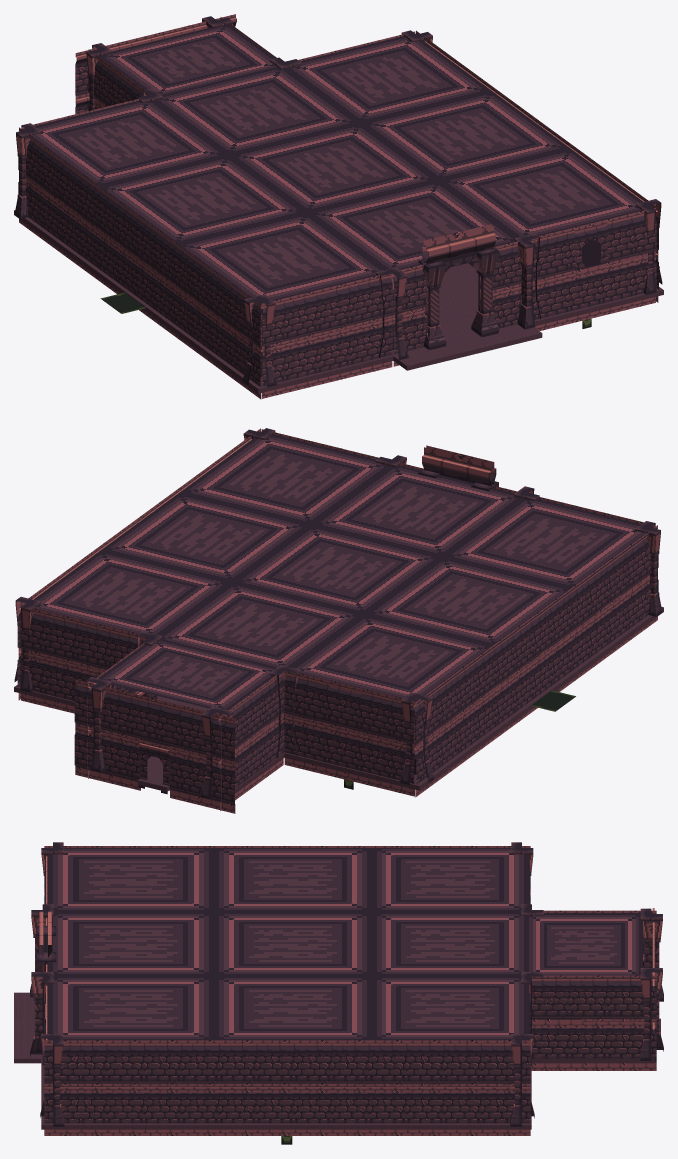
The model's file is EditMainRoom.glb.
The picture shows the model from 3 angles, top to bottom: view 1: azimuth 30°, elevation 25°; view 2: azimuth 150°, elevation 25°; view 3: azimuth 270°, elevation 25°; orthographic projection.
Parts seen in each view (by area): view 1: MainRoom; view 2: MainRoom; view 3: MainRoom.
Boxes of the visible parts, x1=… form: MainRoom: x1=14, y1=14, x2=663, y2=399; MainRoom: x1=14, y1=428, x2=663, y2=813; MainRoom: x1=14, y1=842, x2=663, y2=1144.
Bounding box in the file's own units: 148 × 42.25 × 191.
10 materials, 10 textured.
